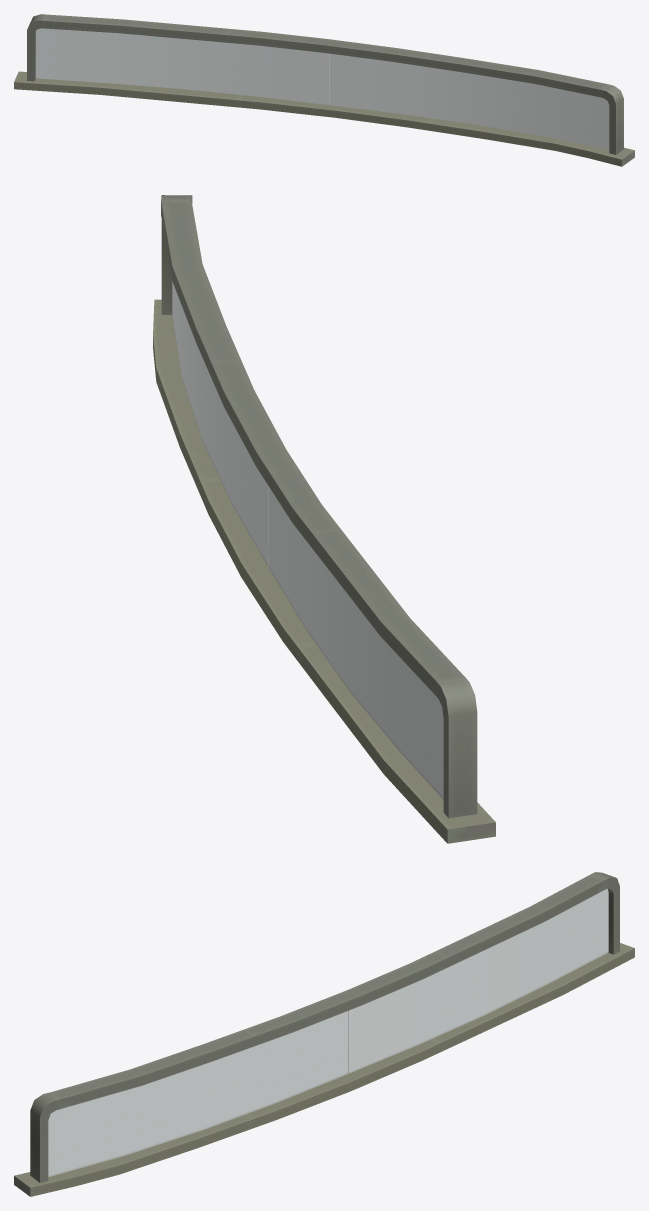
The model's file is pref_sm_city_riverwall06b_snow_lv3.fbx.
3 views of the same model, one above another, from view 1: azimuth 30°, elevation 25°; view 2: azimuth 150°, elevation 25°; view 3: azimuth 270°, elevation 25° (orthographic). The views are drawn at different scales.
Visible parts, largest first — view 1: pref_sm_city_riverwall06b_snow_lv3; view 2: pref_sm_city_riverwall06b_snow_lv3; view 3: pref_sm_city_riverwall06b_snow_lv3.
Boxes of the visible parts, x1,y1,x2,y2 form: pref_sm_city_riverwall06b_snow_lv3: (14,14,634,166); pref_sm_city_riverwall06b_snow_lv3: (153,195,495,843); pref_sm_city_riverwall06b_snow_lv3: (14,872,634,1196).
Bounding box in the file's own units: 9.11 × 1.5 × 9.61.
